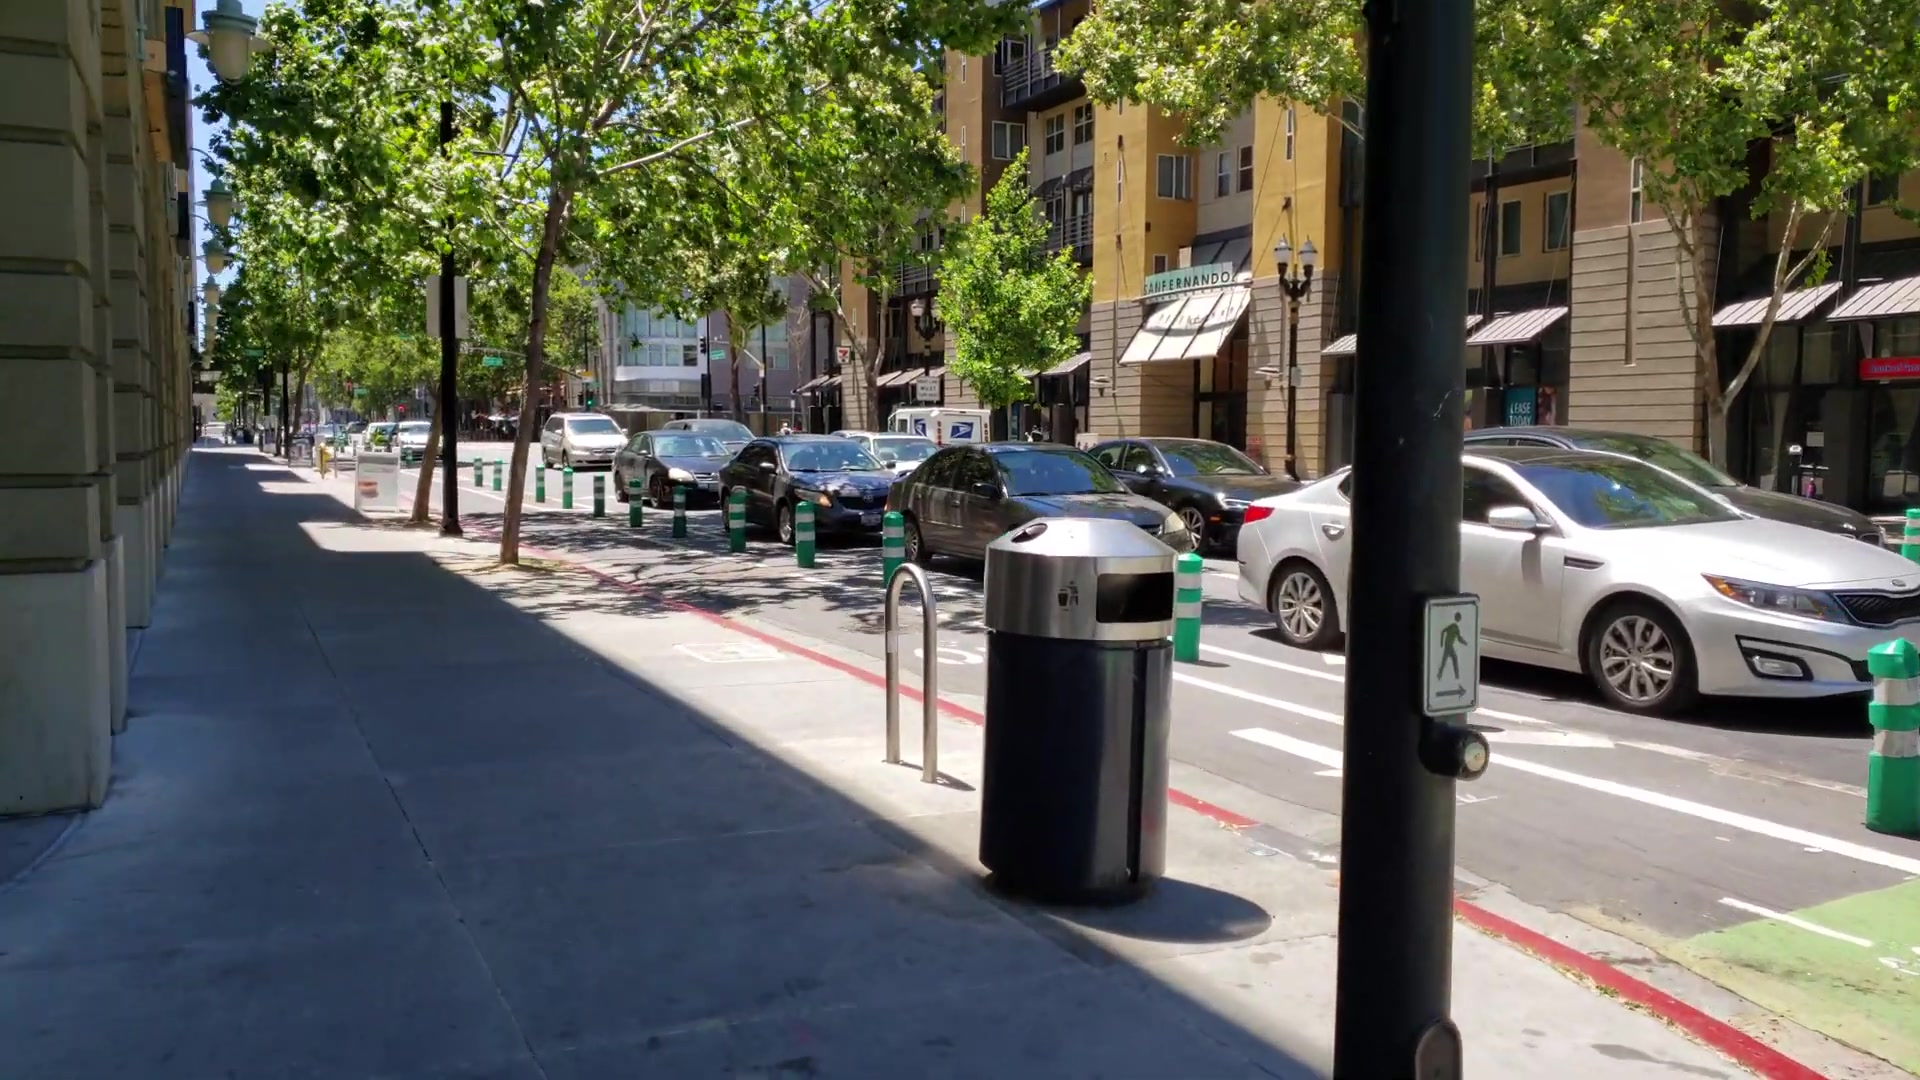vehicle: (1238, 450, 1917, 709), (721, 436, 884, 542), (613, 430, 732, 504), (539, 411, 632, 469)
